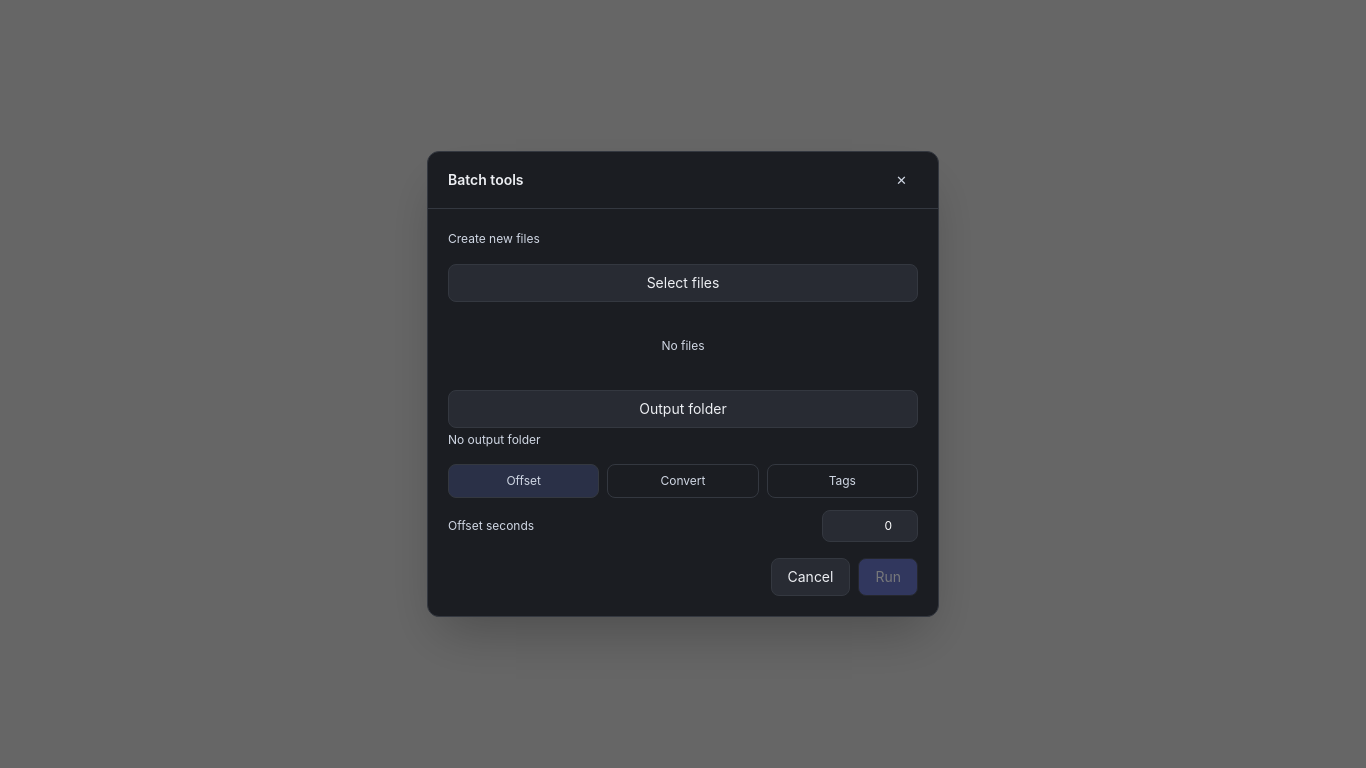
Test: aborts a running snapshot on unmount
Click the button "Select files": (683, 283) [448,264,918,302]
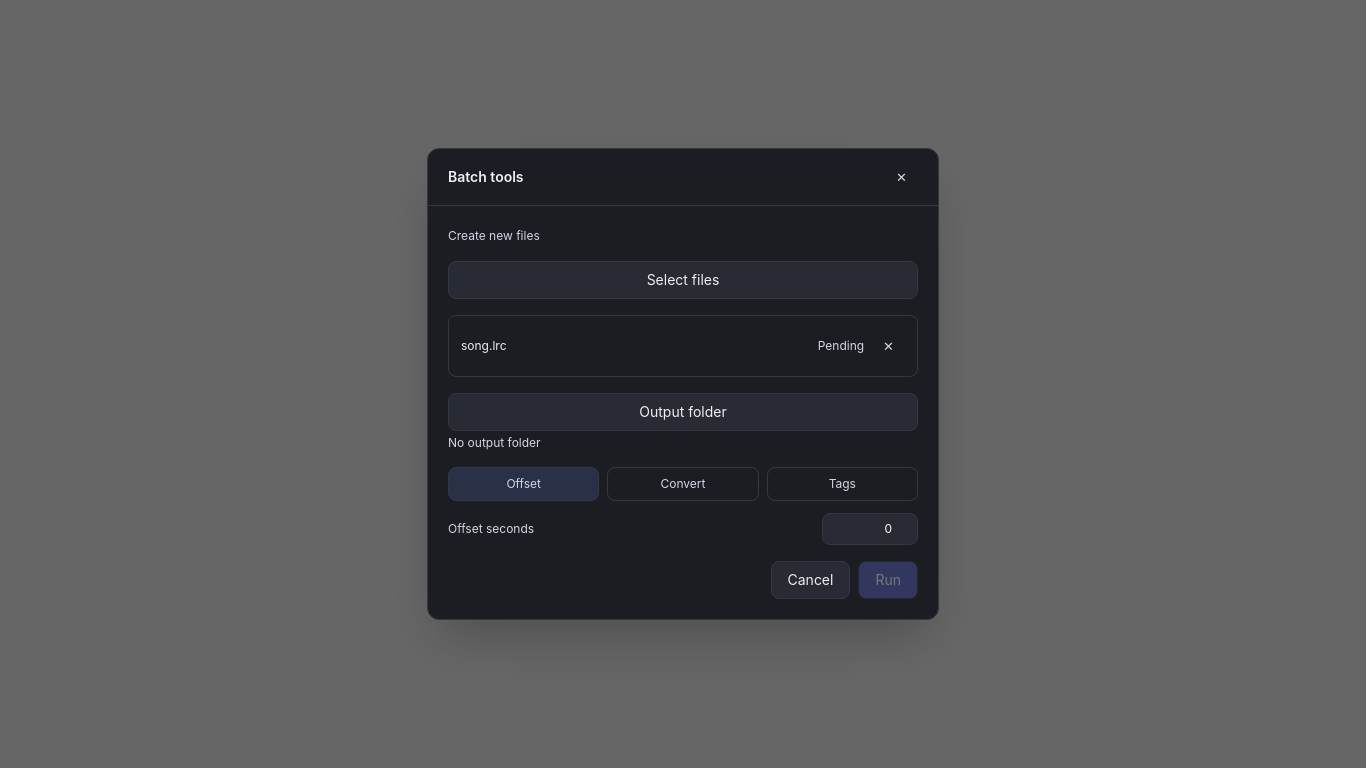
Check: the text "song.lrc" is shown, box [461,338,506,353]
Click the button "Output folder": (683, 412) [448,393,918,431]
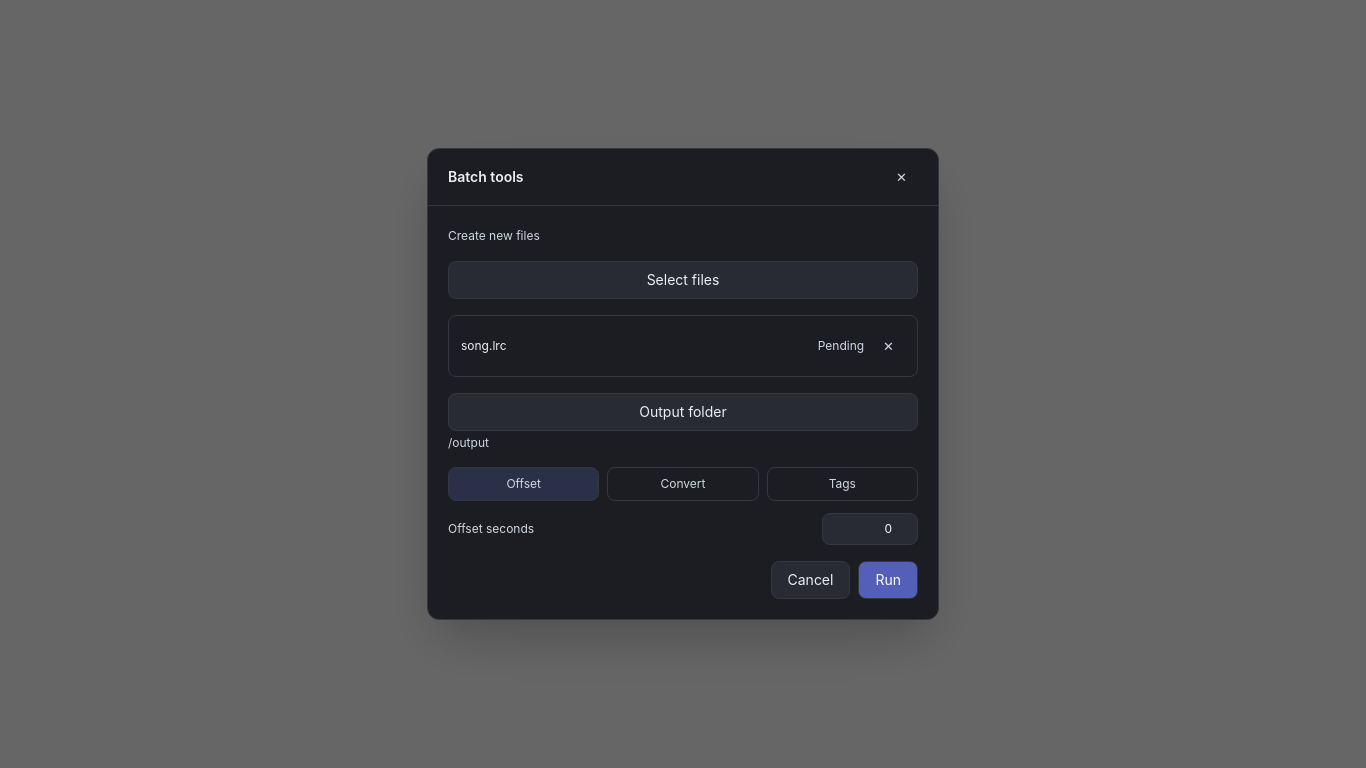
Check: the text "/output" is shown, box [448,435,489,450]
Click the button "Run": (888, 580) [858,561,918,599]
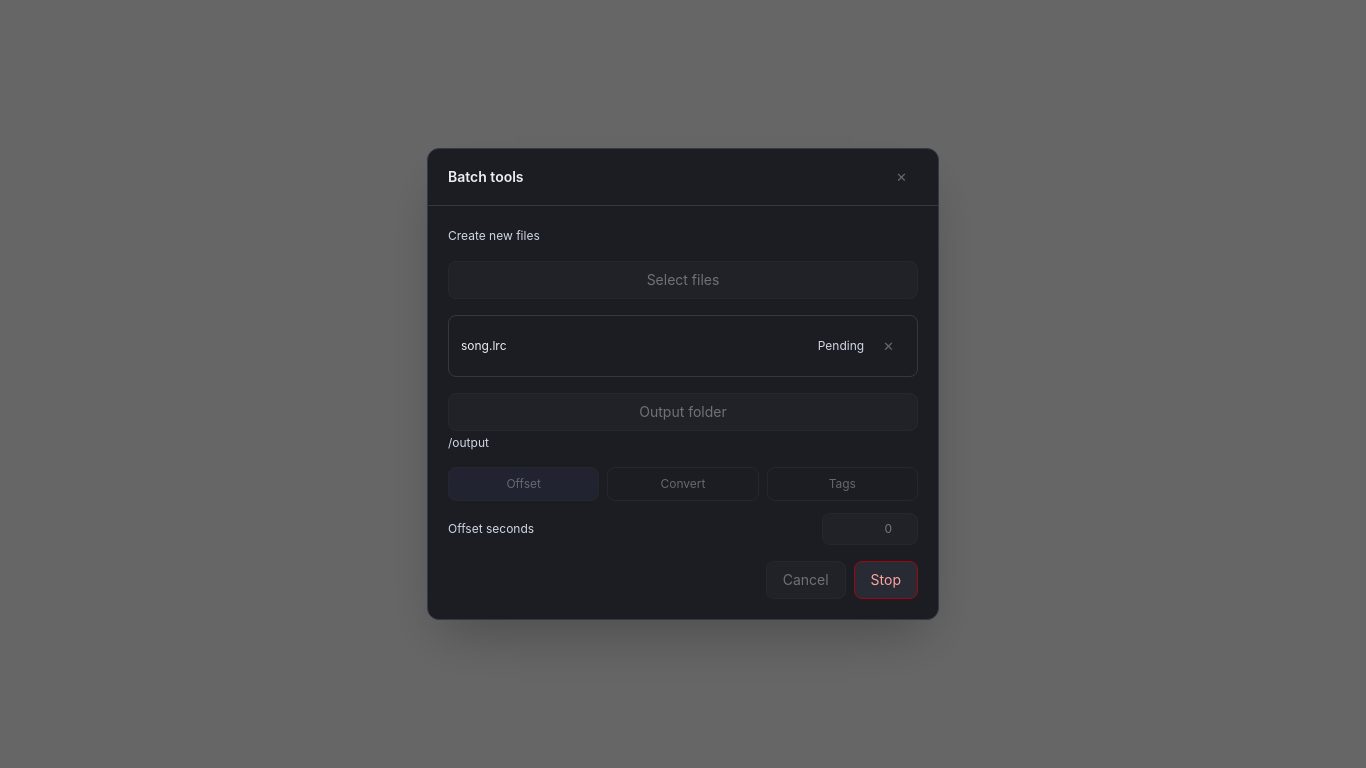
Check: the button "Stop" is shown, box [854,561,918,599]
